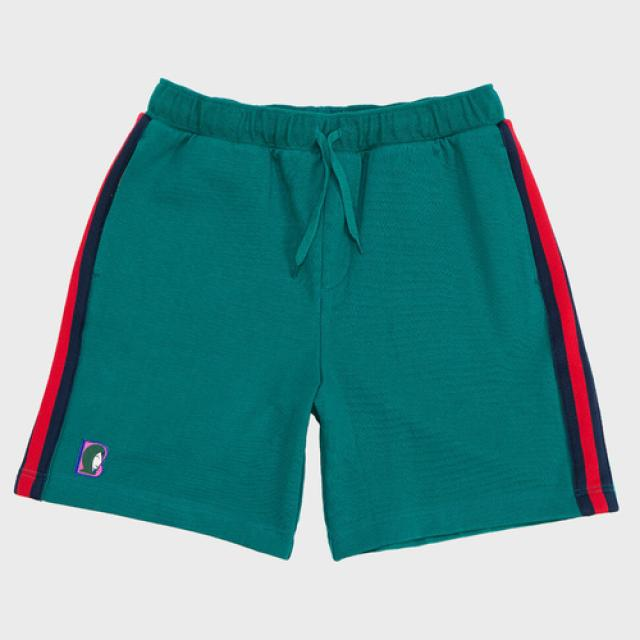Blouse_deep: (23, 74, 624, 525)
